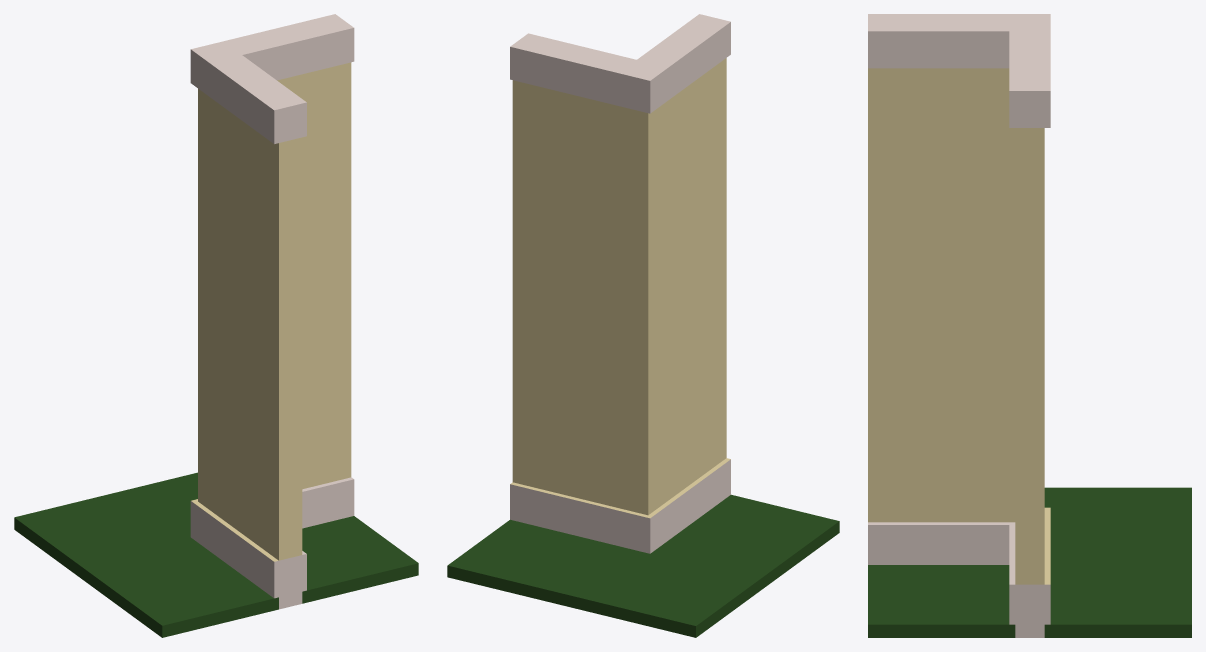
Rendered from Interior Corner.fbx.
3 renders of one model, left to right at view 1: azimuth 30°, elevation 25°; view 2: azimuth 150°, elevation 25°; view 3: azimuth 270°, elevation 25°, orthographic. The views are drawn at different scales.
Visible parts, largest first — view 1: Interior Corner; view 2: Interior Corner; view 3: Interior Corner.
Part boxes in pixels (x1,y1,x2,y2): Interior Corner: (14, 14, 418, 637); Interior Corner: (447, 14, 839, 637); Interior Corner: (868, 14, 1191, 637).
Size of the model in its own units: 110 by 205 by 110.
